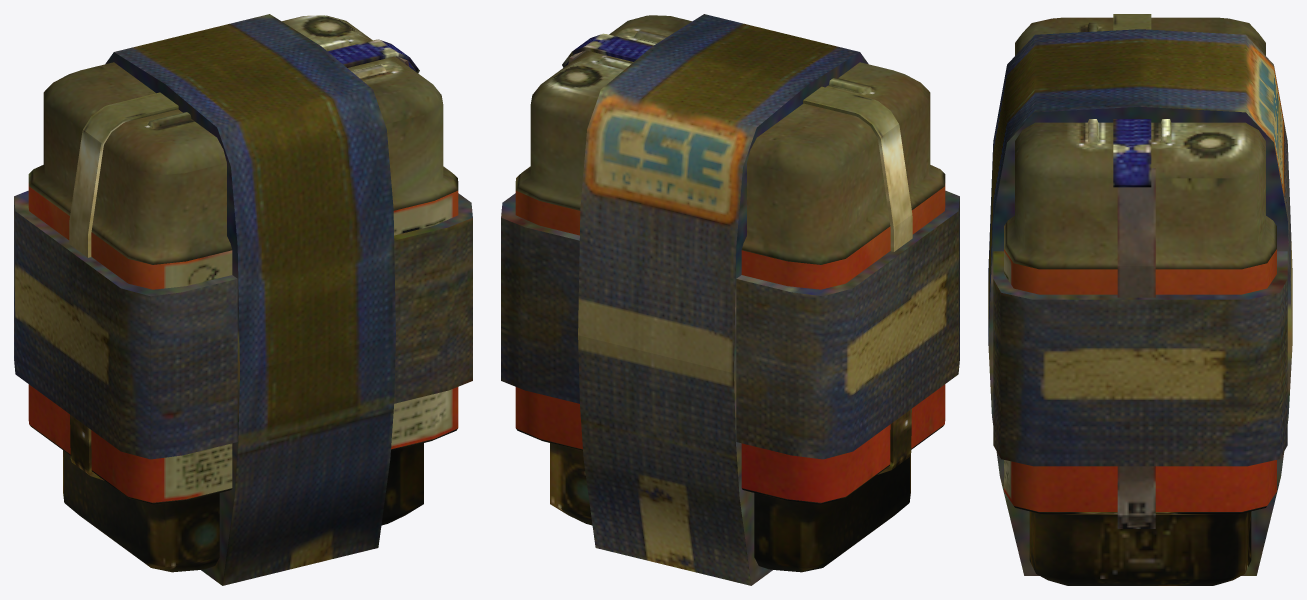
The model's file is PPE_SCSR_CSE100.fbx.
3 renders of one model, left to right at view 1: azimuth 30°, elevation 25°; view 2: azimuth 150°, elevation 25°; view 3: azimuth 270°, elevation 25°, orthographic. The views are drawn at different scales.
Parts seen in each view (by area): view 1: CSE_SR100_Belt; view 2: CSE_SR100_Belt; view 3: CSE_SR100_Belt.
Boxes of the visible parts, x1,y1,x2,y2 form: CSE_SR100_Belt: (14,14,472,585); CSE_SR100_Belt: (501,14,959,585); CSE_SR100_Belt: (988,14,1292,585).
Size of the model in its own units: 15.82 by 19.81 by 11.64.
